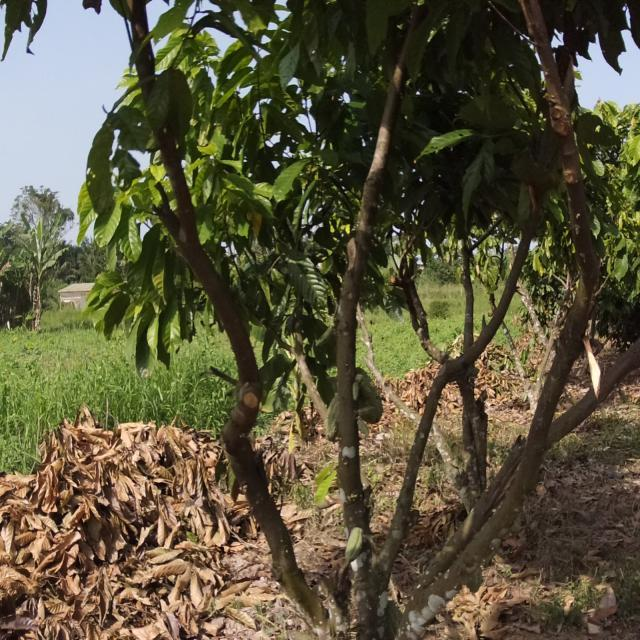Immature: (337, 527, 367, 569)
Mature_Unripe: (339, 358, 402, 446)
